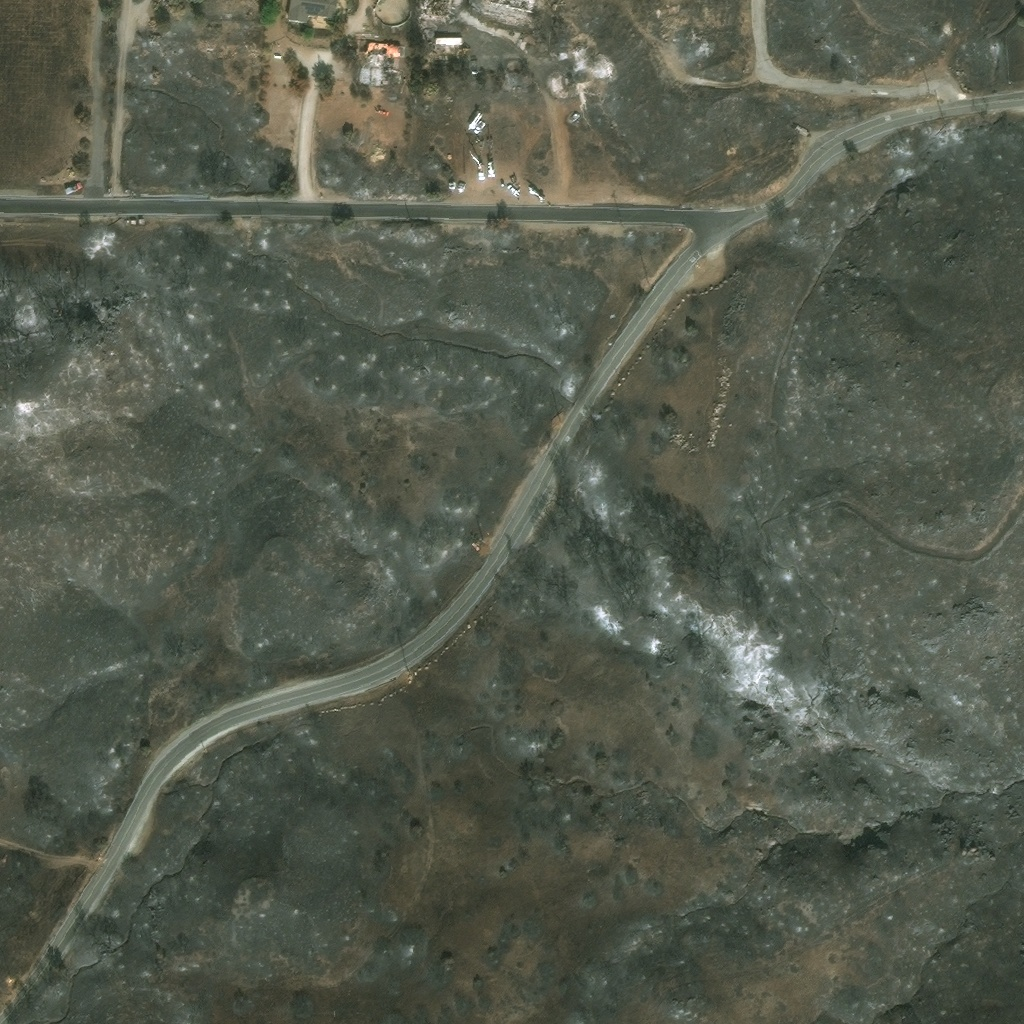0 no-damage: (287, 0, 338, 22), (434, 37, 462, 46), (137, 218, 144, 224), (130, 218, 136, 224)
3 destroyed: (354, 42, 399, 88), (480, 0, 536, 27), (418, 0, 450, 21), (432, 60, 453, 68), (942, 22, 953, 34), (423, 22, 436, 32), (470, 60, 479, 74)
